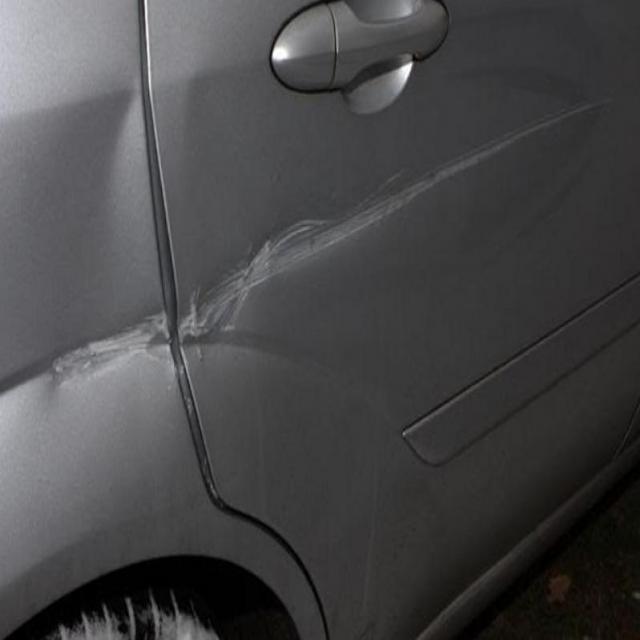scratch: (18, 182, 342, 420)
